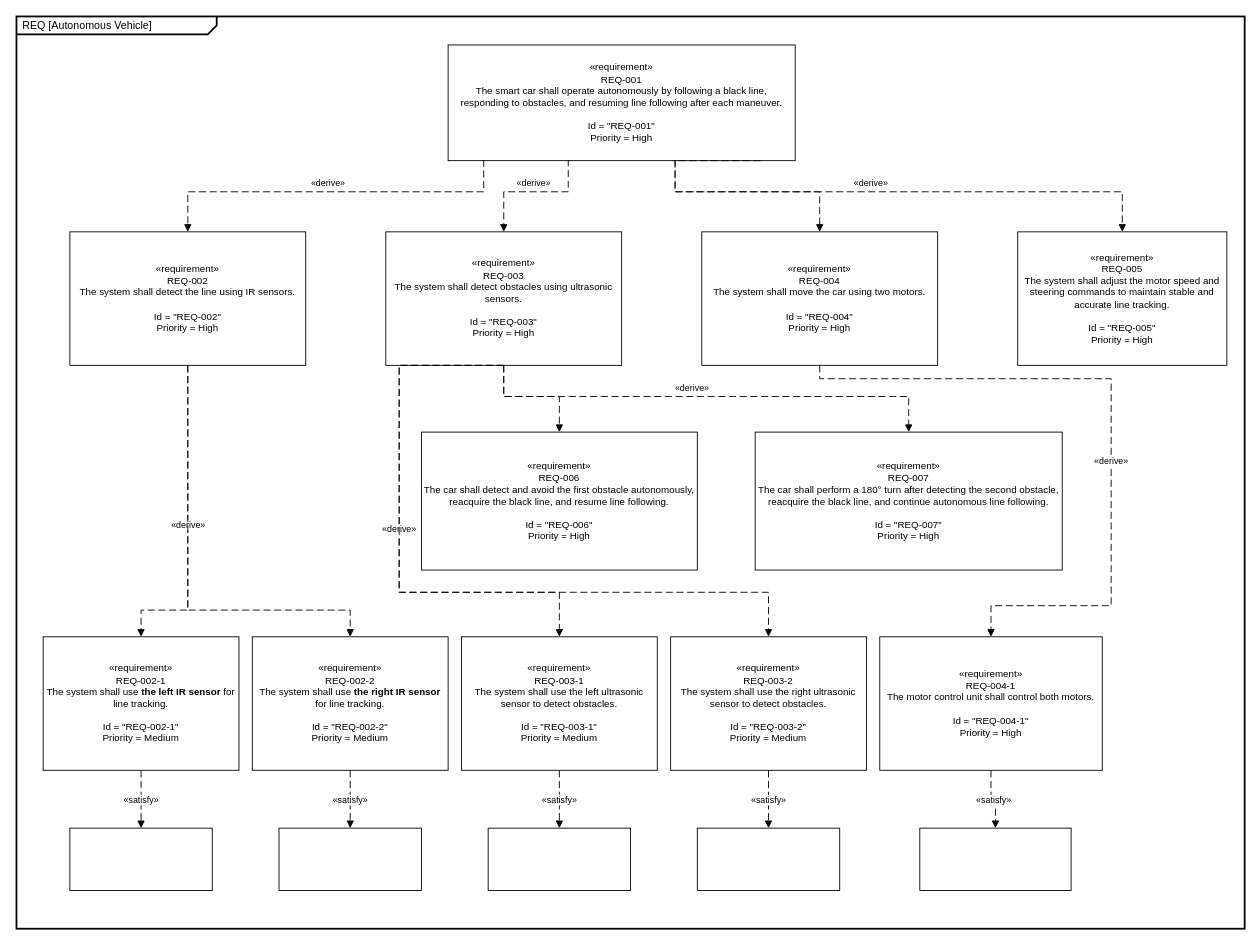
The diagram is 1260 pixels wide and 944 high, and some of its shapes have lost their labels. Each missing label, with the centre of its shape:
"«block» Left IR Sensor" belongs at (140,858).
"«block» Left Ultrasonic Sensor" belongs at (559,858).
"«block» Motor Control Unit" belongs at (995,858).
"«block» Right IR Sensor" belongs at (349,858).
"«block» Right Ultrasonic Sensor" belongs at (768,858).
